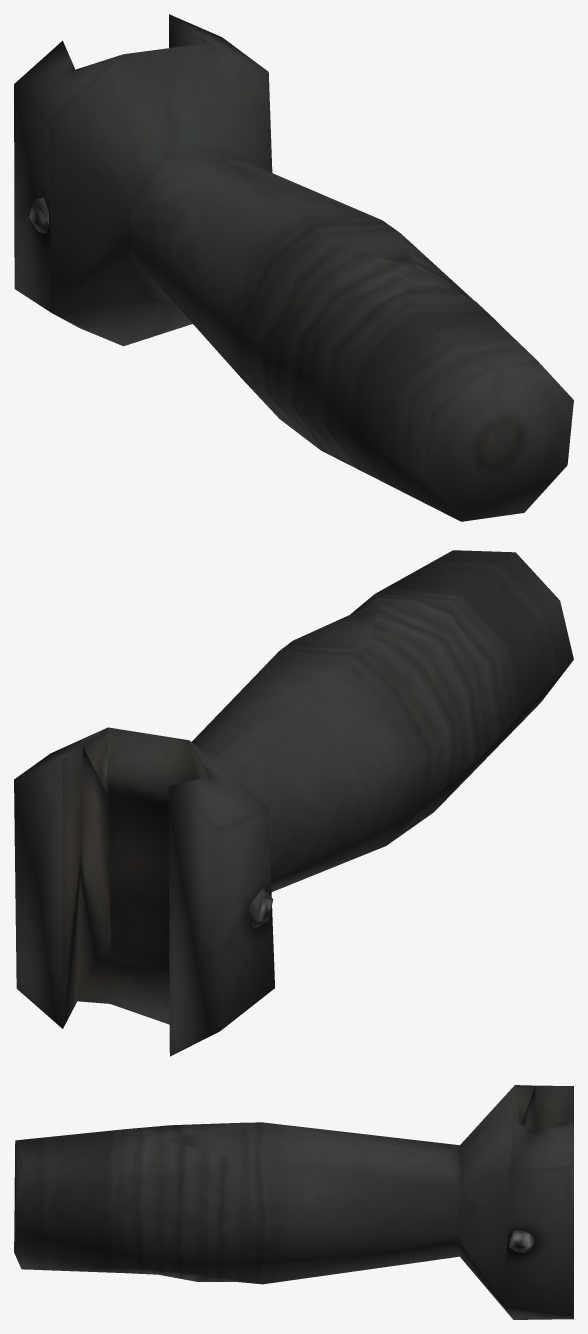
Rendered from VertGrip.fbx.
3 views of the same model, one above another, from view 1: azimuth 30°, elevation 25°; view 2: azimuth 150°, elevation 25°; view 3: azimuth 270°, elevation 25° (orthographic). The views are drawn at different scales.
Parts seen in each view (by area): view 1: VertGrip; view 2: VertGrip; view 3: VertGrip.
Boxes of the visible parts, x1,y1,x2,y2 form: VertGrip: (14,14,573,521); VertGrip: (14,550,573,1056); VertGrip: (14,1085,573,1319).
Size of the model in its own units: 0.0296 by 0.0362 by 0.0867.
